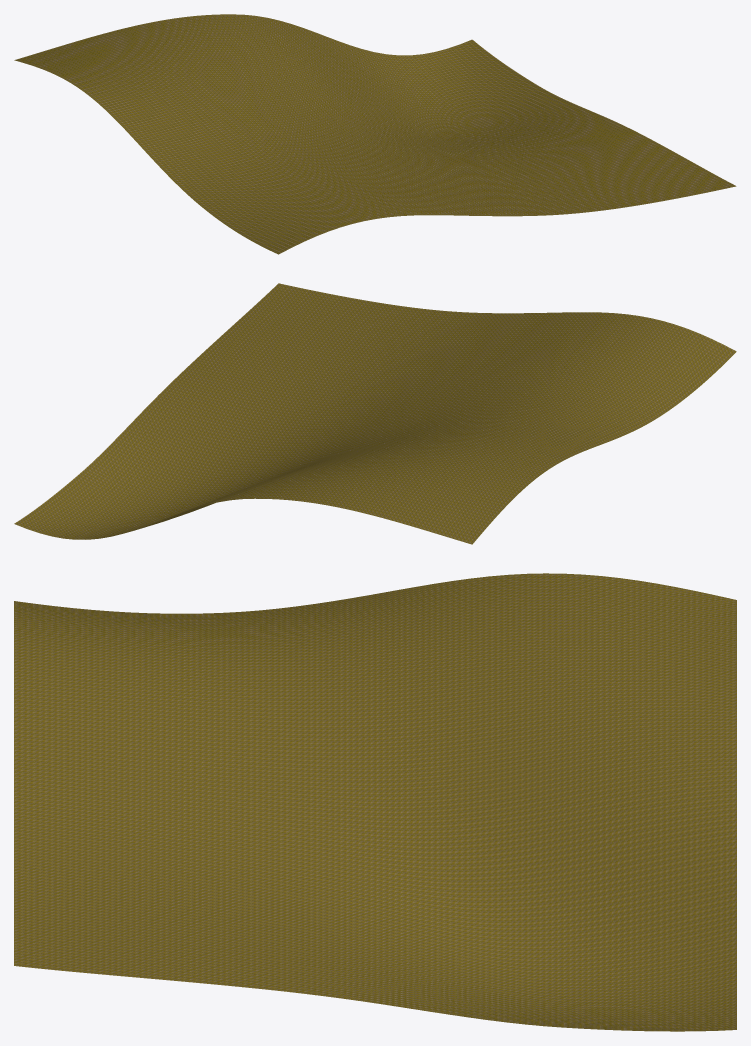
File: grassbit2.gltf
3 renders of one model, top to bottom at view 1: azimuth 30°, elevation 25°; view 2: azimuth 150°, elevation 25°; view 3: azimuth 270°, elevation 25°, orthographic. The views are drawn at different scales.
Parts seen in each view (by area): view 1: Plane; view 2: Plane; view 3: Plane.
Boxes of the visible parts, x1,y1,x2,y2 form: Plane: [14, 14, 736, 254]; Plane: [14, 283, 736, 544]; Plane: [14, 573, 736, 1031].
Bounding box in the file's own units: 1.2 × 0.3045 × 1.2.
